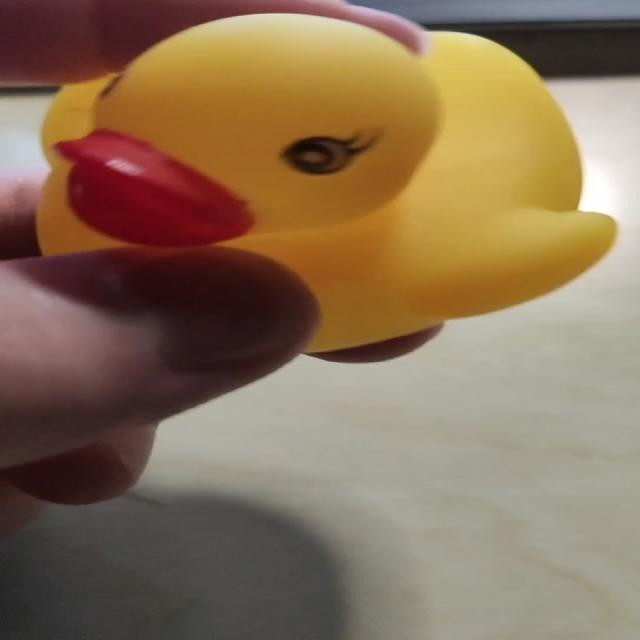rubber-duck: (36, 13, 614, 350)
